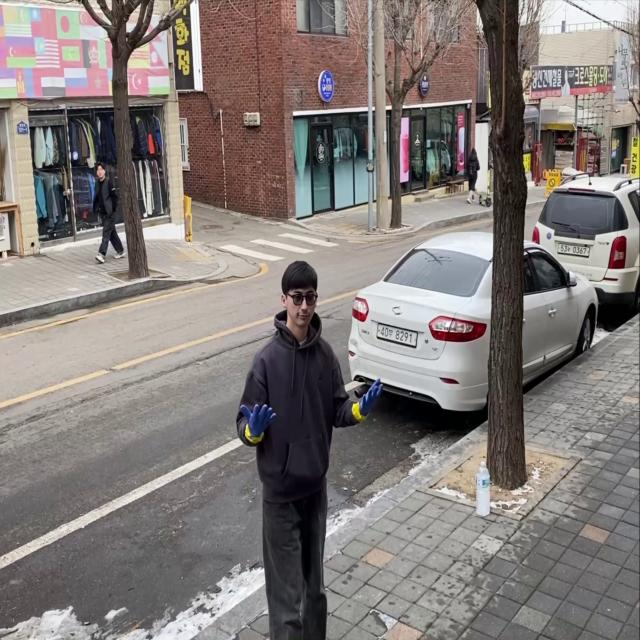gloved_hand: (238, 396, 277, 438), (355, 372, 384, 422)
